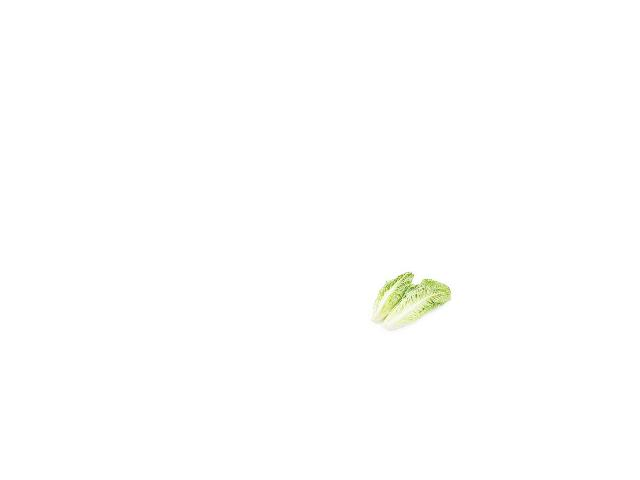lettuce: (387, 276, 451, 334)
